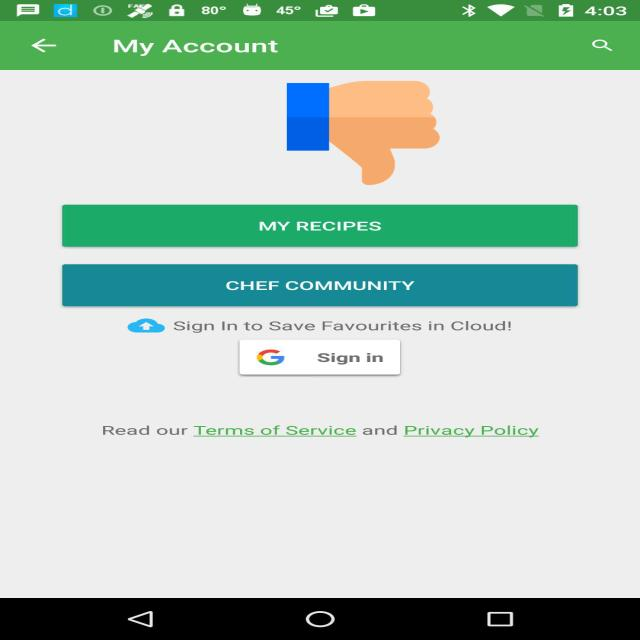obstruction: (287, 78, 440, 188)
